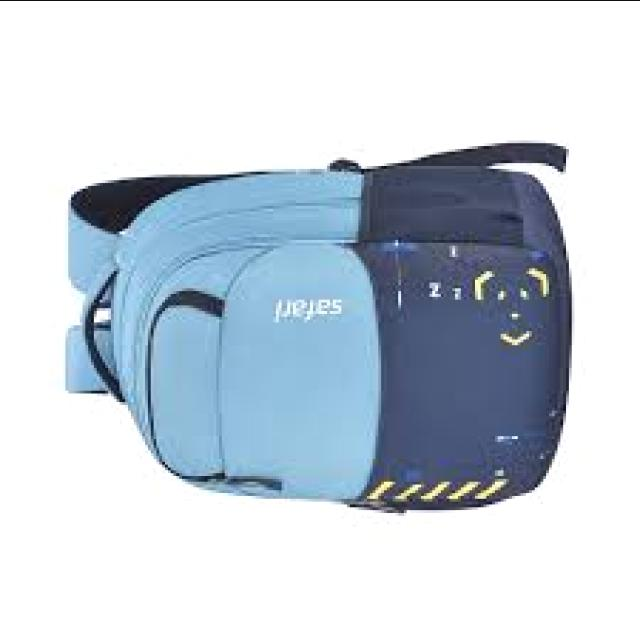backpack: (64, 144, 573, 516)
